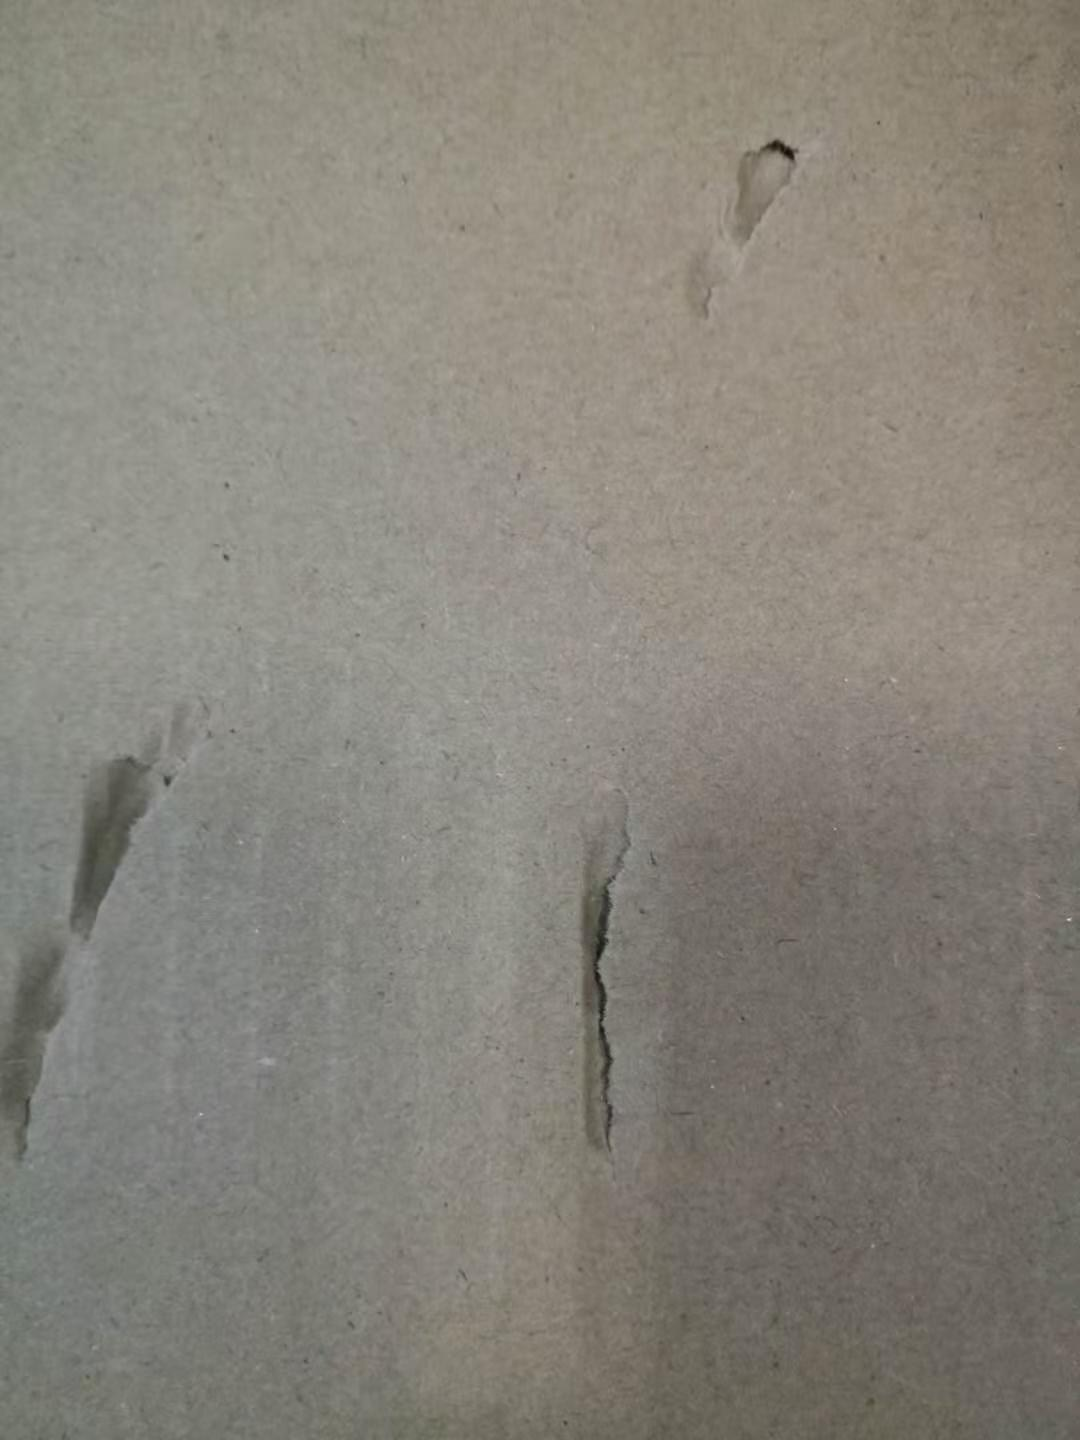defect: (2, 676, 246, 1204), (529, 782, 695, 1193), (655, 112, 839, 333)
